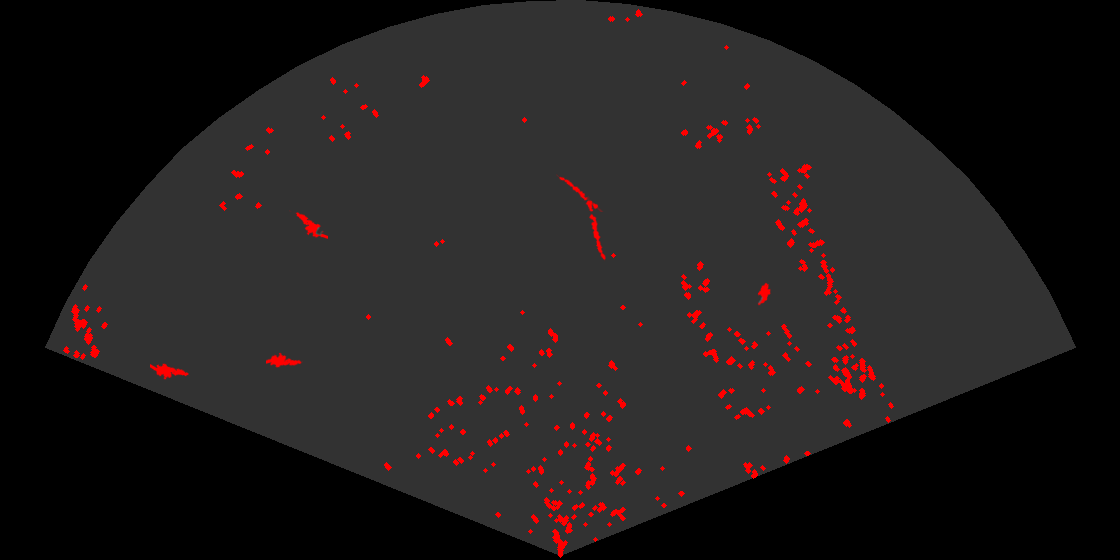AUV: (756, 281, 772, 307)
chain: (556, 173, 605, 212), (584, 197, 607, 262)
frogman: (289, 210, 328, 240), (150, 362, 190, 381), (266, 351, 303, 369)
